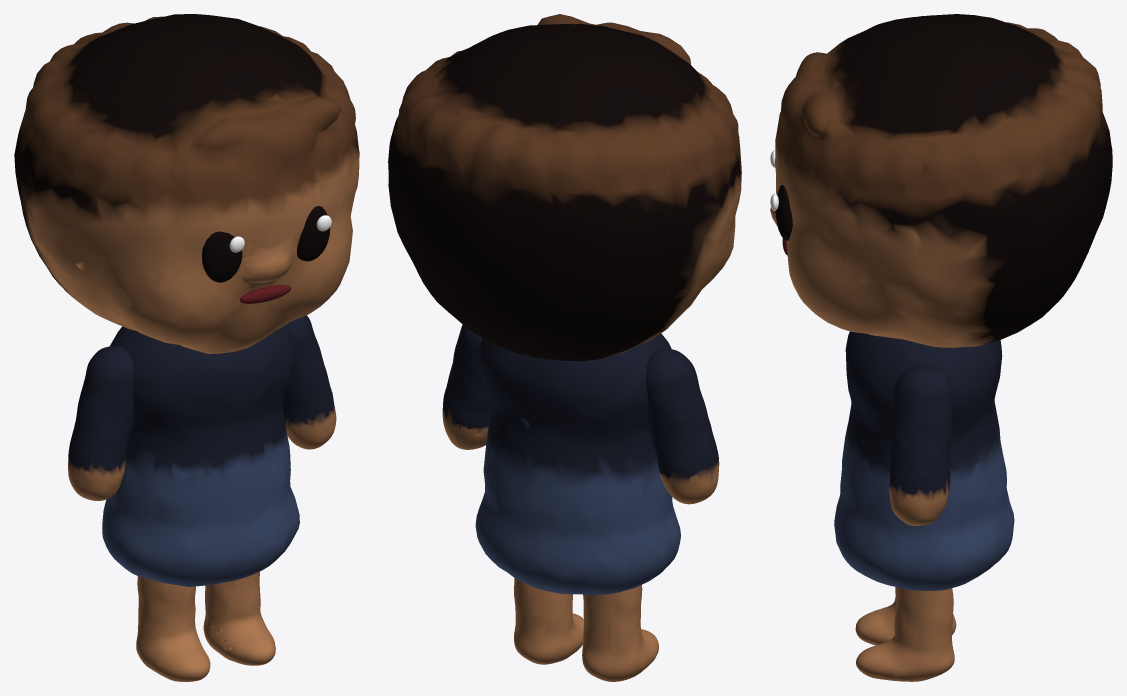
The model's file is ujang.glb.
3 views of the same model, side by side, from view 1: azimuth 30°, elevation 25°; view 2: azimuth 150°, elevation 25°; view 3: azimuth 270°, elevation 25° (orthographic). The views are drawn at different scales.
Visible parts, largest first — view 1: Head, Body, ArmL, LegL, LegR, ArmR, eye, eye.001, mouth; view 2: Head, Body, ArmL, LegL, LegR, ArmR; view 3: Head, Body, ArmR, LegR, LegL, eye.001.
Boxes of the visible parts, x1=… form: Head: x1=14, y1=14, x2=359, y2=353; Body: x1=102, y1=325, x2=299, y2=586; ArmL: x1=68, y1=346, x2=134, y2=500; LegL: x1=136, y1=576, x2=210, y2=681; LegR: x1=203, y1=571, x2=275, y2=665; ArmR: x1=283, y1=315, x2=336, y2=449; eye: x1=202, y1=231, x2=242, y2=282; eye.001: x1=297, y1=206, x2=330, y2=261; mouth: x1=239, y1=285, x2=291, y2=303; Head: x1=388, y1=14, x2=741, y2=361; Body: x1=475, y1=333, x2=680, y2=594; ArmL: x1=646, y1=349, x2=719, y2=504; LegL: x1=582, y1=585, x2=658, y2=681; LegR: x1=514, y1=578, x2=583, y2=664; ArmR: x1=442, y1=324, x2=491, y2=449; Head: x1=770, y1=14, x2=1112, y2=347; Body: x1=834, y1=331, x2=1014, y2=590; ArmR: x1=889, y1=363, x2=953, y2=526; LegR: x1=856, y1=587, x2=954, y2=681; LegL: x1=855, y1=597, x2=956, y2=645; eye.001: x1=775, y1=185, x2=792, y2=240.
Bounding box in the file's own units: 0.9172 × 1.79 × 0.8839.
